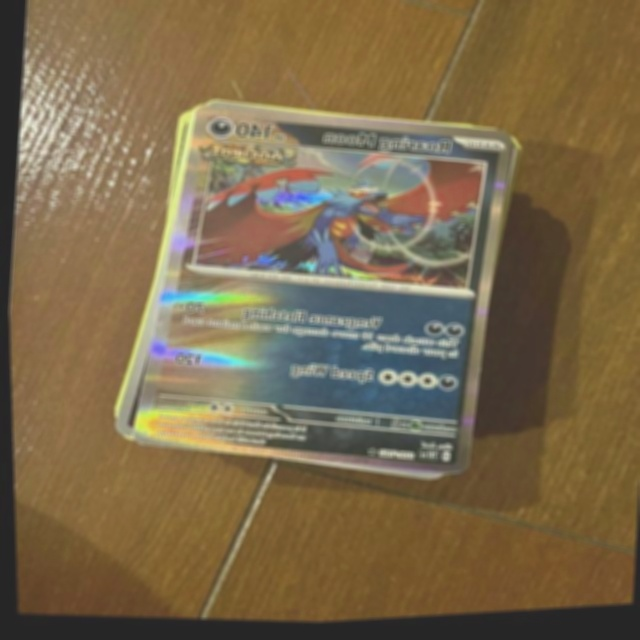card: (129, 105, 511, 479)
